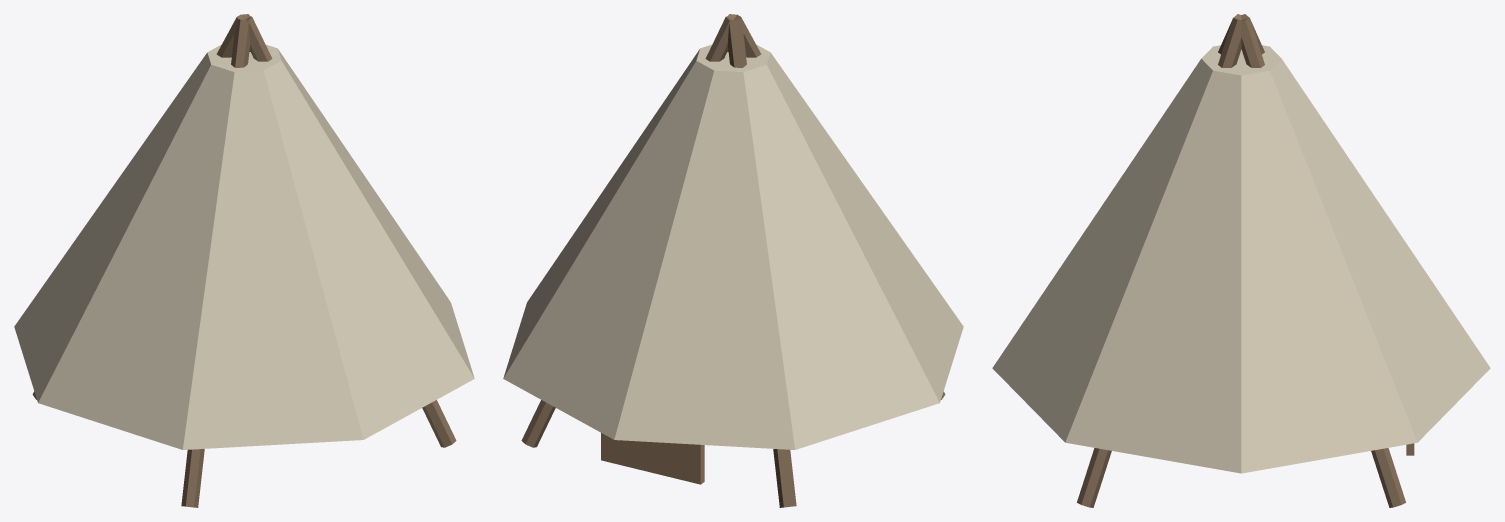
File: kids_tenda.glb
3 renders of one model, left to right at view 1: azimuth 30°, elevation 25°; view 2: azimuth 150°, elevation 25°; view 3: azimuth 270°, elevation 25°, orthographic. The views are drawn at different scales.
Visible parts, largest first — view 1: KIDS_TENDA_v01; view 2: KIDS_TENDA_v01; view 3: KIDS_TENDA_v01.
Boxes of the visible parts, x1=… form: KIDS_TENDA_v01: x1=14, y1=14, x2=474, y2=507; KIDS_TENDA_v01: x1=503, y1=14, x2=963, y2=507; KIDS_TENDA_v01: x1=992, y1=14, x2=1490, y2=507.
Size of the model in its own units: 1.24 by 1.17 by 1.24.
